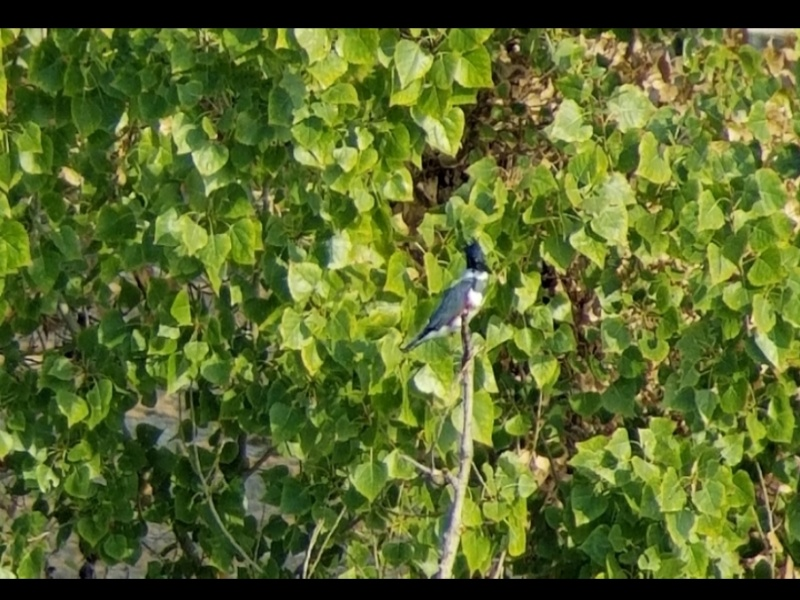kingfisher: (403, 237, 494, 373)
